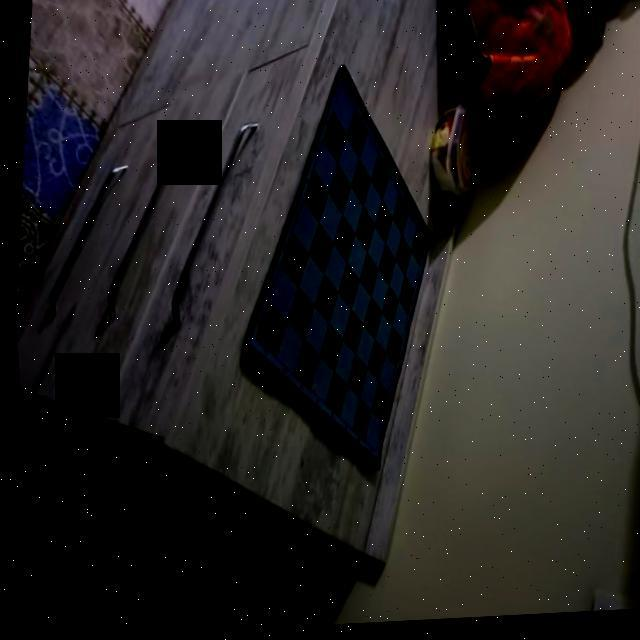chess-table-corners: (238, 325, 267, 361), (354, 438, 382, 474), (328, 66, 355, 100), (412, 231, 434, 262)
